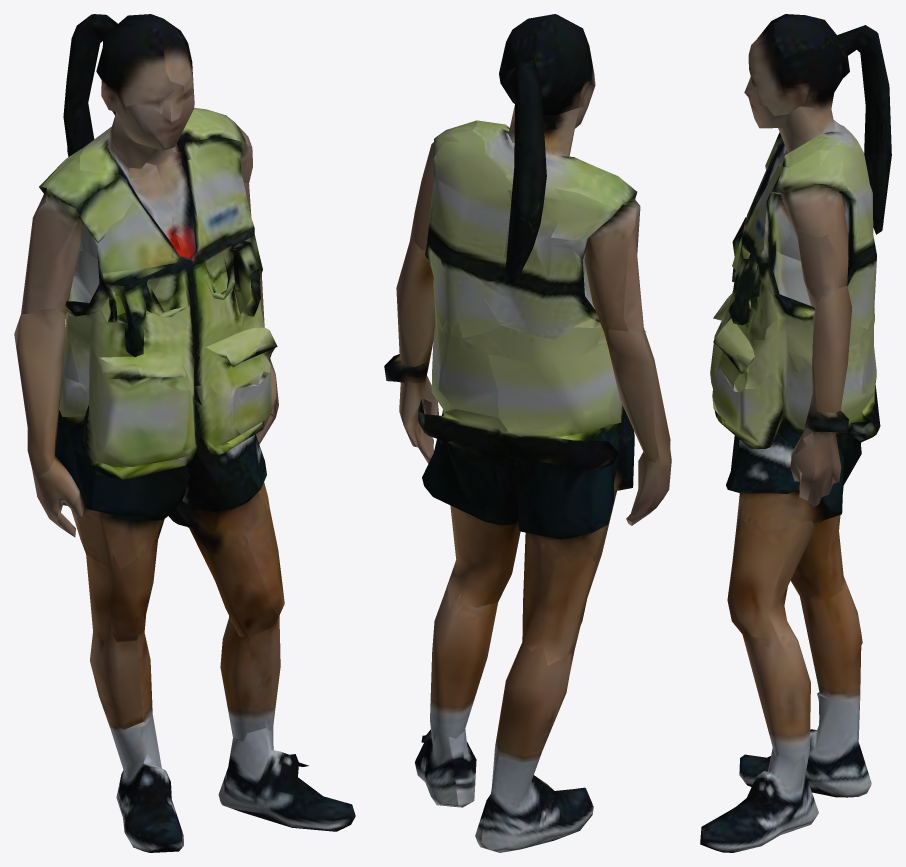
The model's file is marsal_ce_idle_lod2.glb.
3 renders of one model, left to right at view 1: azimuth 30°, elevation 25°; view 2: azimuth 150°, elevation 25°; view 3: azimuth 270°, elevation 25°, orthographic. The views are drawn at different scales.
Parts seen in each view (by area): view 1: Idle; view 2: Idle; view 3: Idle.
Boxes of the visible parts, bbox=[...] form: Idle: bbox=[14, 14, 355, 852]; Idle: bbox=[384, 14, 671, 852]; Idle: bbox=[700, 14, 891, 852].
Bounding box in the file's own units: 35.45 × 98.52 × 22.2.
1 material, 1 textured.
